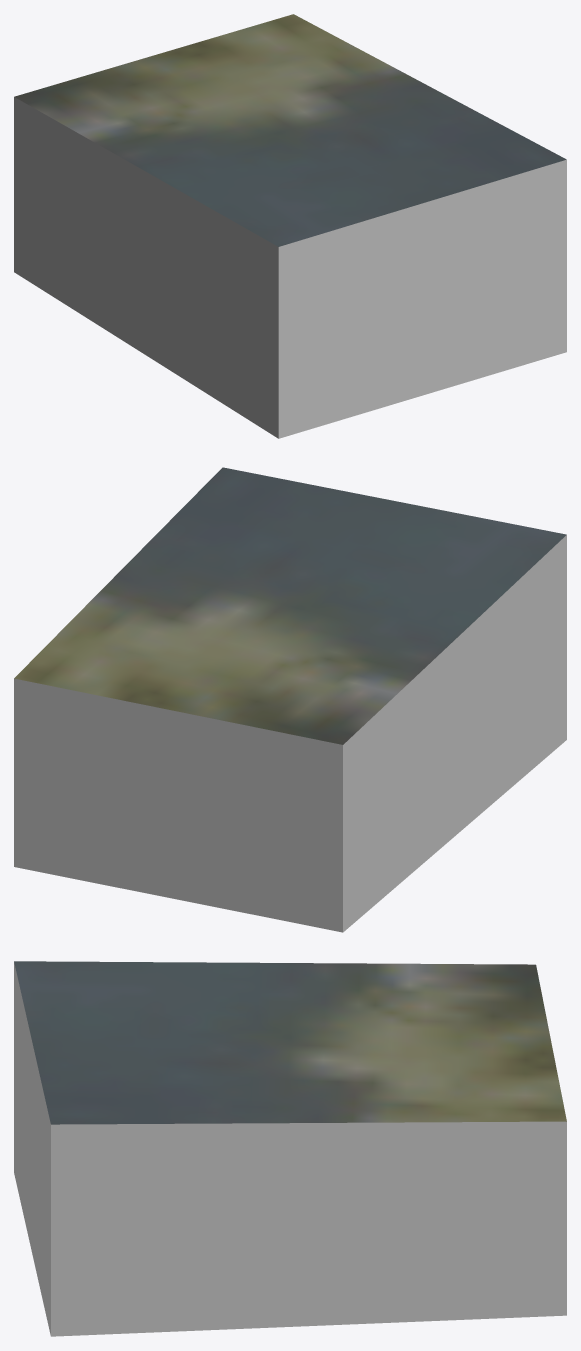
The model's file is DEBW_0010007TxdK.gltf.
The picture shows the model from 3 angles, top to bottom: view 1: azimuth 30°, elevation 25°; view 2: azimuth 150°, elevation 25°; view 3: azimuth 270°, elevation 25°; orthographic projection. The views are drawn at different scales.
Parts seen in each view (by area): view 1: Z_UP; view 2: Z_UP; view 3: Z_UP.
Part boxes in pixels (left/top/right/bottom): Z_UP: left=14, top=14, right=566, bottom=438; Z_UP: left=14, top=467, right=566, bottom=932; Z_UP: left=14, top=961, right=566, bottom=1336.
Size of the model in its own units: 4.93 by 2.73 by 6.44.
2 materials, 1 textured.
